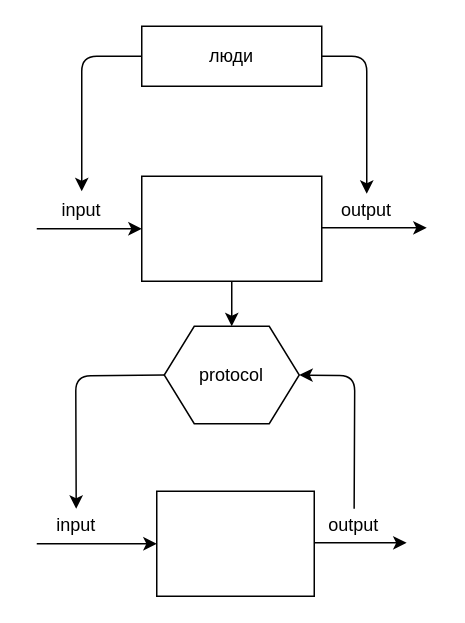
Some shapes in this 465 by 623 pixel diagram are drawn without their labels. Here are the shapes that lost their labels. From the top down, the centre of each, then its label:
At point 231,228: "frontend application".
At point 234,543: "backend system".
